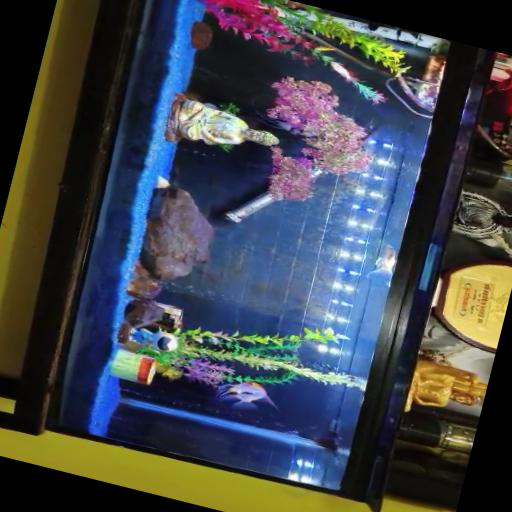Fish: (215, 380, 276, 408), (366, 244, 395, 284), (314, 45, 333, 50)
